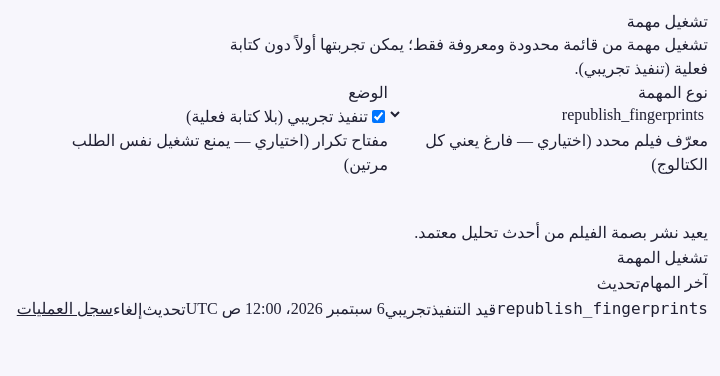
JobsAdmin › defaults to a dry run and lets the operator submit it
This screenshot has width=720, height=376.
Check: the checkbox labelled "تنفيذ تجريبي (بلا كتابة فعلية)" is checked, box left=372, top=110, right=385, bottom=123
Click the button "تشغيل المهمة" at point(662, 258), box left=617, top=245, right=708, bottom=271
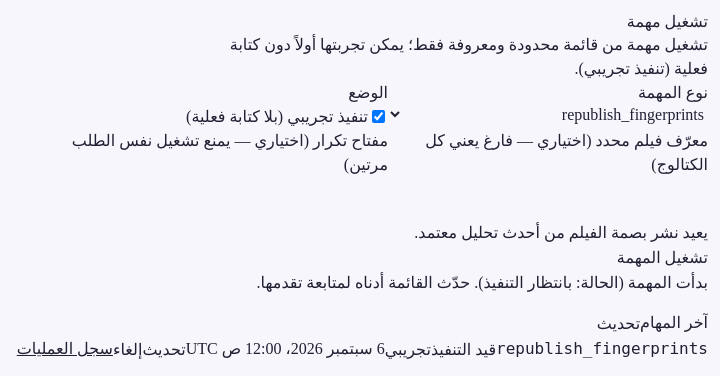
Check: the text "بدأت المهمة (الحالة: بانتظار التنفيذ). حدّث القائمة أدناه لمتابعة تقدمها." is shown, box left=257, top=274, right=708, bottom=291
